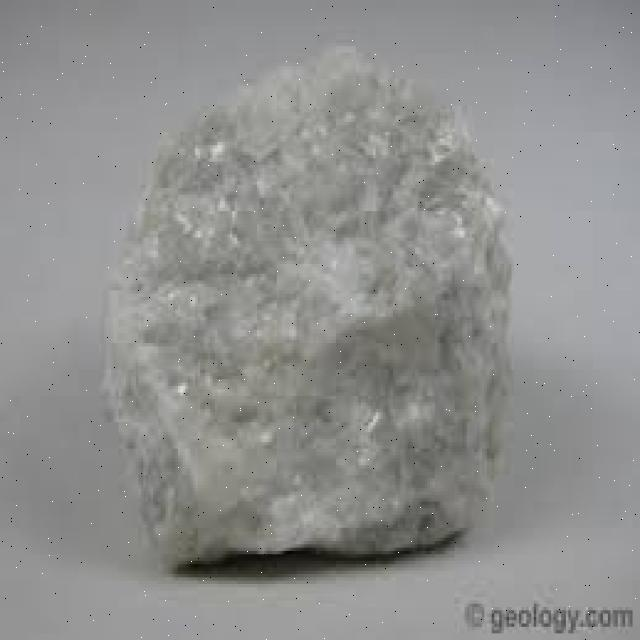Metamorphic: (89, 39, 526, 570)
